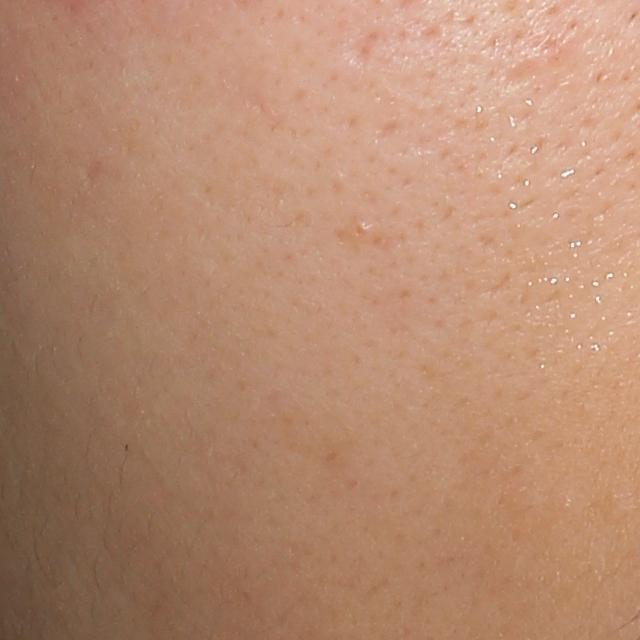atrophic_scar: (495, 52, 561, 97), (349, 31, 381, 69)
